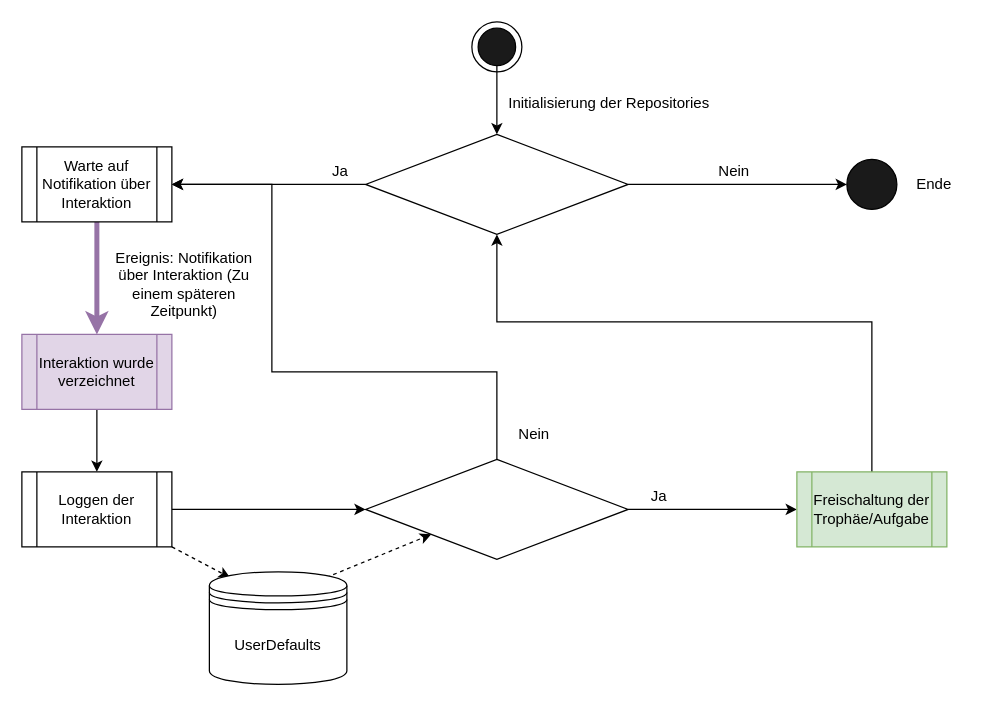
Some shapes in this 981 by 706 pixel diagram are drawn without their labels. The shapes that lost their labels are listed below. From the top down, each one's box as (x1, y1, x2, y2) in pixels, then its label:
(364, 133, 628, 234): Trophäe/Aufgabe (erneut) freischaltbar?
(364, 458, 628, 559): Trophäe/Aufgabe freischalten?
